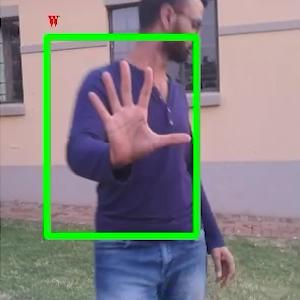follow_hand: (83, 54, 195, 169)
